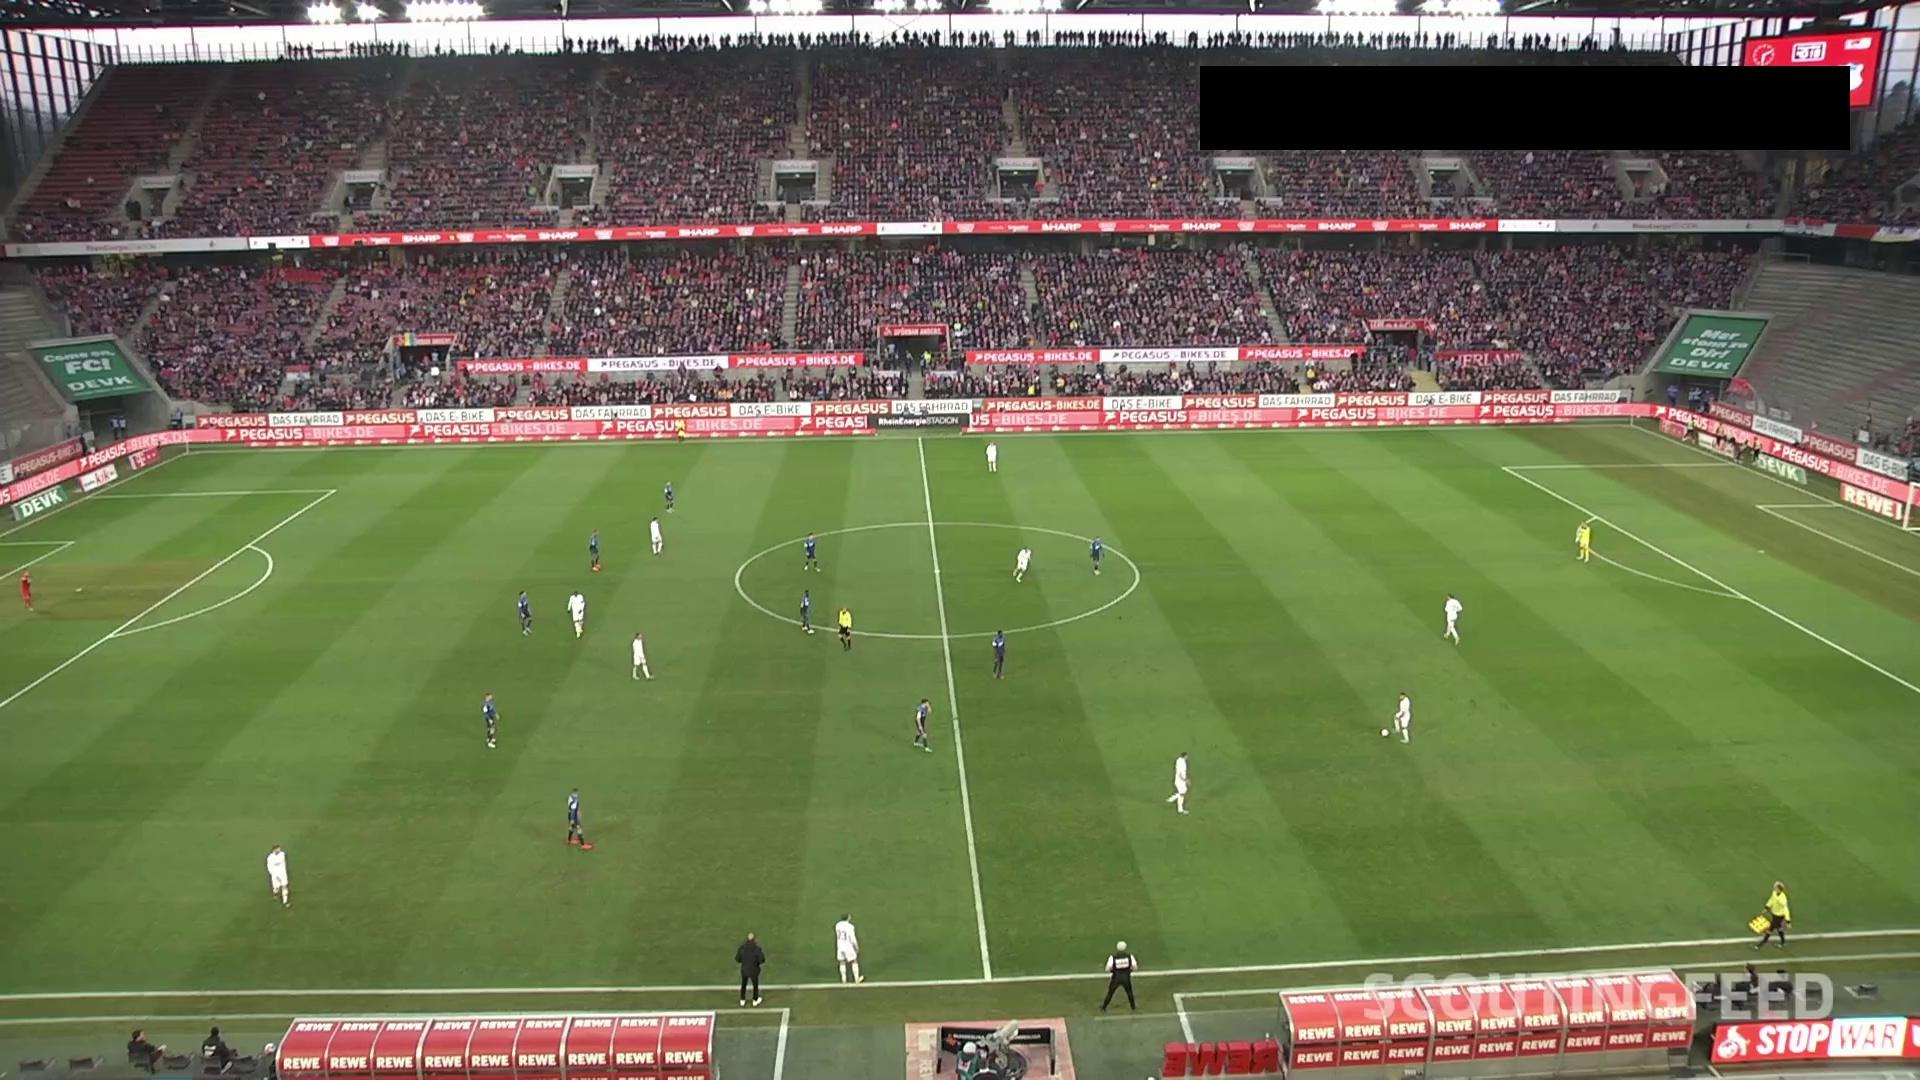Location-of-ball: (1375, 720, 1395, 744)
